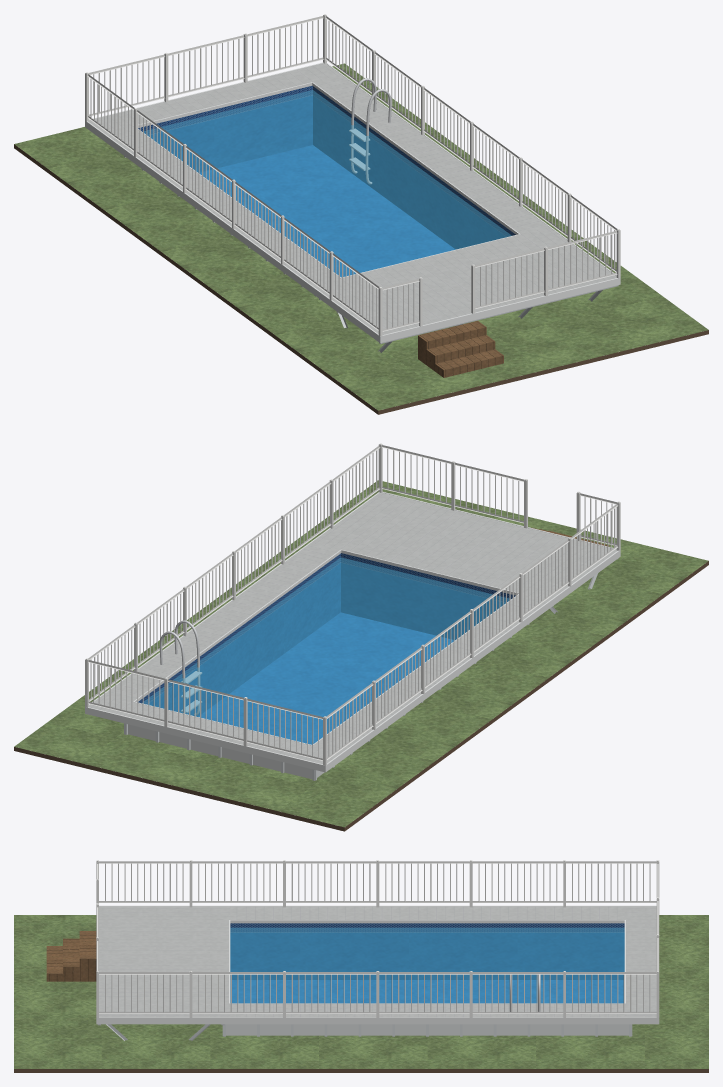
File: kayak-pool-12x24-white-end-rec-fence.98d46b797c.glb
3 views of the same model, one above another, from view 1: azimuth 30°, elevation 25°; view 2: azimuth 150°, elevation 25°; view 3: azimuth 270°, elevation 25° (orthographic). The views are drawn at different scales.
Parts seen in each view (by area): view 1: ground, water, deck, fence, liner_wall, liner_floor, fascia, steps, soil, steel, stud; view 2: ground, water, deck, fence, liner_wall, liner_floor, fascia, soil, wall, steel; view 3: ground, water, deck, liner_wall, fence, liner_floor, fascia, wall, soil, steps, upright.
Boxes of the visible parts, x1=… form: ground: x1=14, y1=63, x2=708, y2=410; water: x1=142, y1=90, x2=511, y2=277; deck: x1=88, y1=63, x2=616, y2=334; fence: x1=85, y1=14, x2=620, y2=336; liner_wall: x1=138, y1=85, x2=515, y2=249; liner_floor: x1=199, y1=145, x2=455, y2=277; fascia: x1=85, y1=62, x2=620, y2=343; steps: x1=418, y1=321, x2=503, y2=377; soil: x1=14, y1=144, x2=708, y2=414; steel: x1=349, y1=78, x2=391, y2=184; stud: x1=314, y1=285, x2=618, y2=352; ground: x1=14, y1=480, x2=708, y2=827; water: x1=142, y1=557, x2=509, y2=744; deck: x1=89, y1=492, x2=617, y2=764; fence: x1=85, y1=443, x2=620, y2=765; liner_wall: x1=138, y1=553, x2=515, y2=716; liner_floor: x1=198, y1=612, x2=453, y2=744; fascia: x1=85, y1=492, x2=620, y2=772; soil: x1=14, y1=561, x2=708, y2=831; wall: x1=128, y1=724, x2=324, y2=778; steel: x1=159, y1=620, x2=201, y2=715; ground: x1=14, y1=915, x2=708, y2=1068; water: x1=230, y1=927, x2=624, y2=1003; deck: x1=99, y1=906, x2=656, y2=1017; liner_wall: x1=230, y1=923, x2=624, y2=979; fence: x1=96, y1=860, x2=659, y2=1017; liner_floor: x1=230, y1=980, x2=623, y2=1003; fascia: x1=96, y1=905, x2=659, y2=1024; wall: x1=226, y1=1024, x2=628, y2=1035; soil: x1=14, y1=1069, x2=708, y2=1072; steps: x1=46, y1=931, x2=96, y2=981; upright: x1=222, y1=1024, x2=632, y2=1036.
Size of the model in its own units: 6.71 by 2.15 by 12.79.
13 materials, 5 textured.
